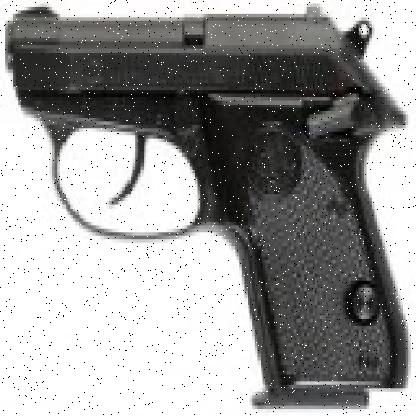pistol: (3, 3, 411, 409)
